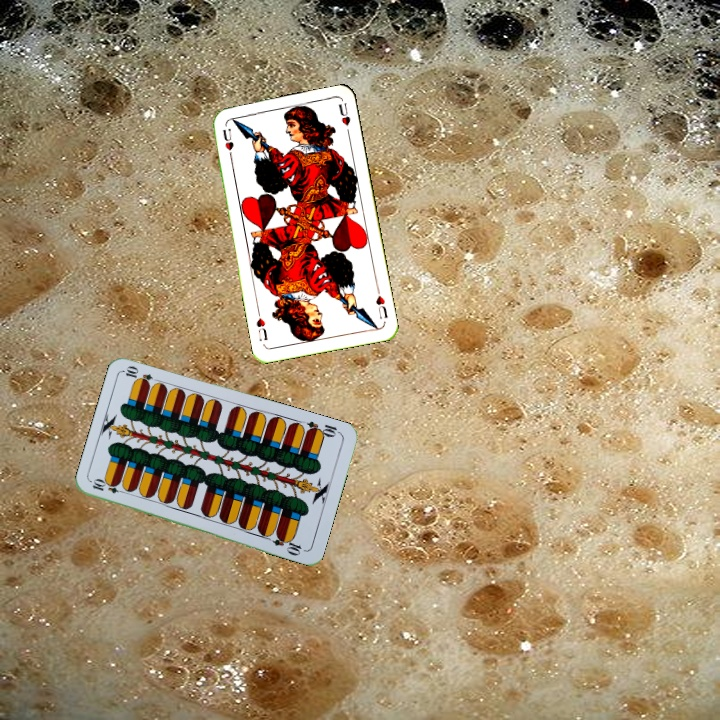E10: (302, 417, 343, 440), (88, 477, 129, 496)
HU: (372, 284, 390, 321), (219, 124, 236, 153)
